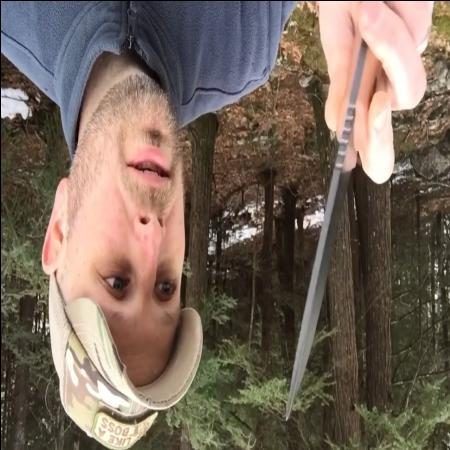long weapon: (280, 60, 396, 428)
